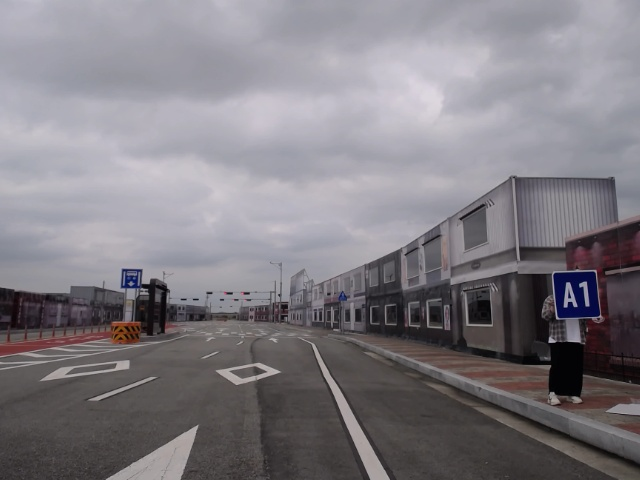delivery_a1: (551, 271, 601, 319)
